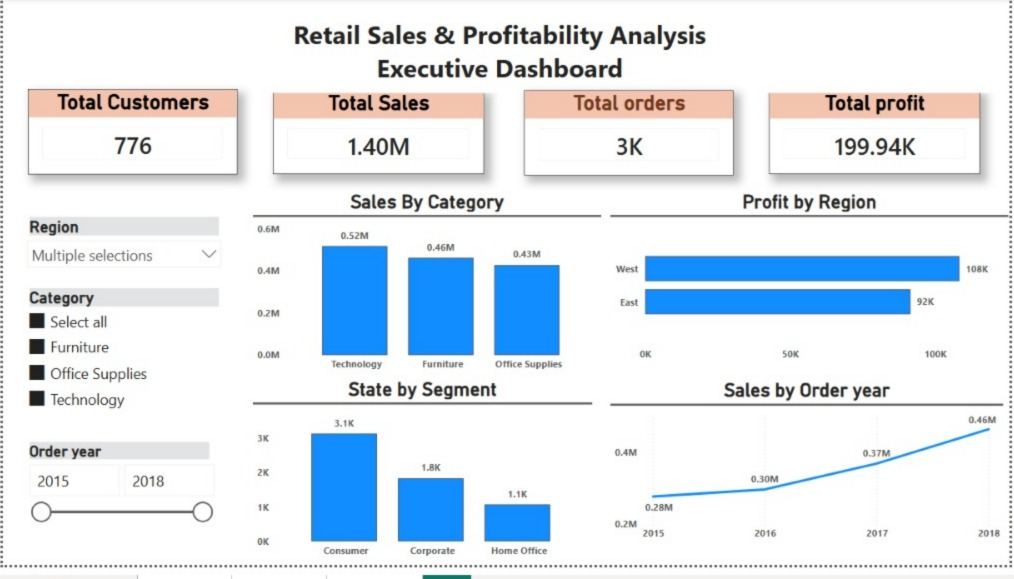

This screenshot's page, from the dashboard's own definition file:
{"tool":"powerbi","page":{"name":"Page 1","canvas":[1280,720],"ordinal":0},"visuals":[{"type":"cardVisual","title":"Total Sales","fields":{"Data":["Sum(superstore_cleaned.Sales)"]},"box":[343.3,116.7,268.3,106.7],"z":0},{"type":"cardVisual","title":"Total profit","fields":{"Data":["Sum(superstore_cleaned.Profit)"]},"box":[975,116.7,268.3,106.7],"z":1000},{"type":"textbox","box":[0,17.5,1264.5,101.8],"z":2000},{"type":"cardVisual","title":"Total orders","fields":{"Data":["superstore_cleaned.Total Orders"]},"box":[663.3,116.7,266.7,108.3],"z":4000},{"type":"clusteredColumnChart","title":"Sales By Category","fields":{"Category":["superstore_cleaned.Category"],"Y":["Sum(superstore_cleaned.Sales)"]},"box":[318.3,243.3,443.3,240],"z":5000},{"type":"barChart","title":"Profit by Region","fields":{"Category":["superstore_cleaned.Region"],"Y":["Sum(superstore_cleaned.Profit)"]},"box":[773.3,243.3,506.7,226.7],"z":6000},{"type":"lineChart","title":"Sales by Order year","fields":{"Category":["superstore_cleaned.Order_year"],"Y":["Sum(superstore_cleaned.Sales)"]},"box":[773.3,483.3,500,215],"z":7000},{"type":"cardVisual","title":"Total Customers","fields":{"Data":["superstore_cleaned.Total customer"]},"box":[31.7,115,266.7,108.3],"z":8000},{"type":"clusteredColumnChart","title":"State by Segment","fields":{"Category":["superstore_cleaned.Segment"],"Y":["CountNonNull(superstore_cleaned.State)"]},"box":[318.3,481.7,431.7,238.3],"z":9000},{"type":"slicer","fields":{"Values":["superstore_cleaned.Category"]},"box":[20,363.3,266.7,173.3],"z":10000},{"type":"slicer","fields":{"Values":["superstore_cleaned.Region"]},"box":[20,271.7,266.7,85],"z":11000},{"type":"slicer","fields":{"Values":["superstore_cleaned.Order_year"]},"box":[20,558.3,255,161.7],"z":12000}]}

Visuals, with their boxes in screenshot pixels (x1, y1, x2, y2), scaled from the page's 1280x720 canvas onto the 1014x579 screenshot:
"Total Sales" cardVisual: [272, 94, 485, 180]
"Total profit" cardVisual: [772, 94, 985, 180]
textbox: [0, 14, 1002, 96]
"Total orders" cardVisual: [525, 94, 737, 181]
"Sales By Category" clusteredColumnChart: [252, 196, 603, 389]
"Profit by Region" barChart: [613, 196, 1013, 378]
"Sales by Order year" lineChart: [613, 389, 1009, 562]
"Total Customers" cardVisual: [25, 92, 236, 180]
"State by Segment" clusteredColumnChart: [252, 387, 594, 578]
slicer - superstore_cleaned.Category: [16, 292, 227, 432]
slicer - superstore_cleaned.Region: [16, 218, 227, 287]
slicer - superstore_cleaned.Order_year: [16, 449, 218, 578]
